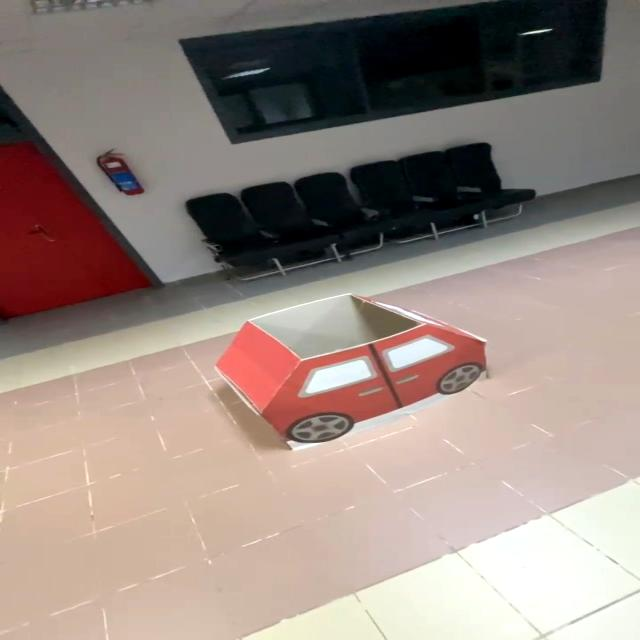red_car: (176, 281, 530, 466)
